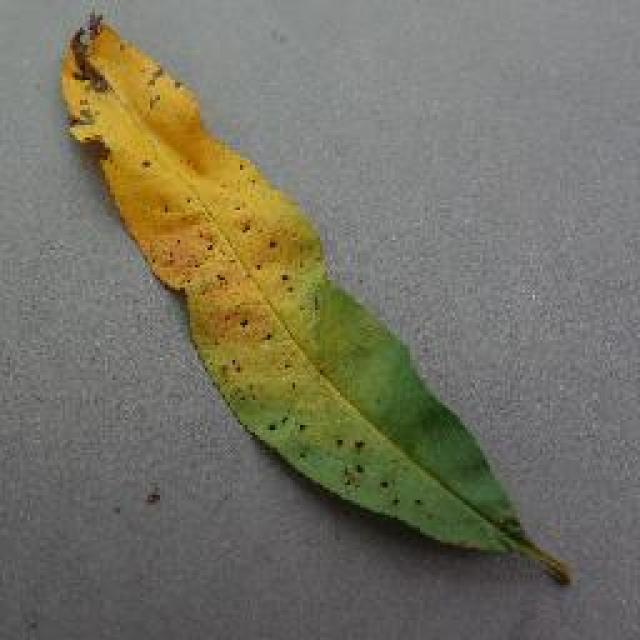Peach_Bacterial_Spot: (142, 130, 438, 512)
